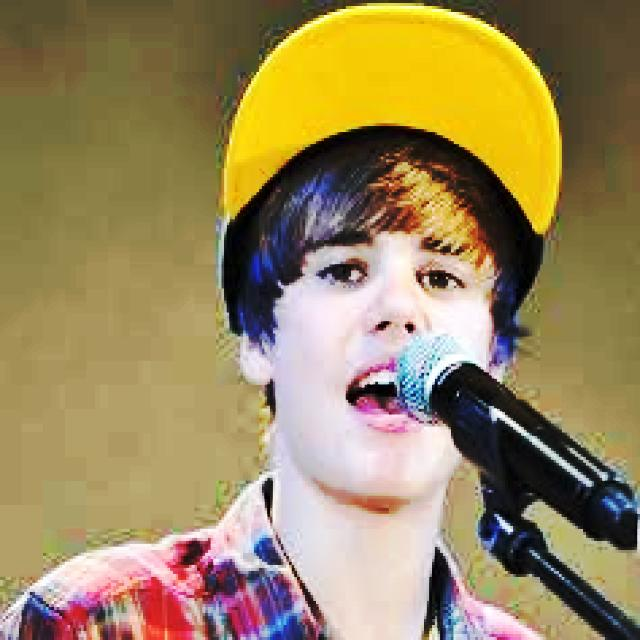TOPI: (216, 6, 559, 331)
